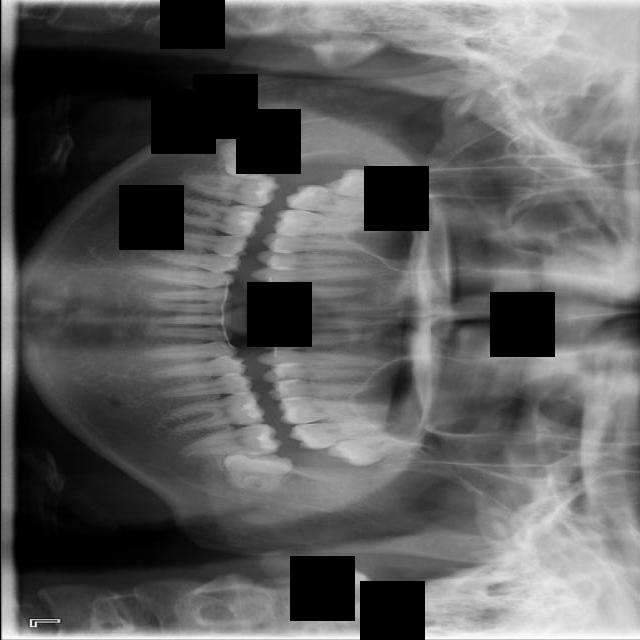3M ESPE Implant: (322, 165, 429, 205)
52: (231, 383, 273, 430), (245, 416, 286, 459), (239, 171, 282, 211), (226, 204, 267, 240), (284, 184, 331, 212)
73: (8, 624, 18, 634)
BioHorizons Implant: (286, 420, 398, 451)
BioLife Implant: (324, 427, 434, 471)
Biomet 3i Implant: (216, 440, 295, 502)
Blue Sky Bio Implant: (178, 423, 282, 456)
Caries: (282, 179, 397, 229)
Implant: (178, 173, 281, 208)
Keystone Dental Implant: (217, 123, 295, 187)
